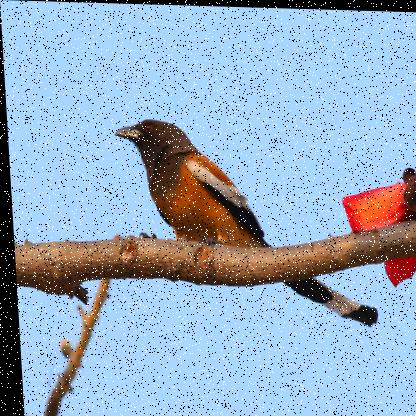Burung: (113, 117, 375, 323)
